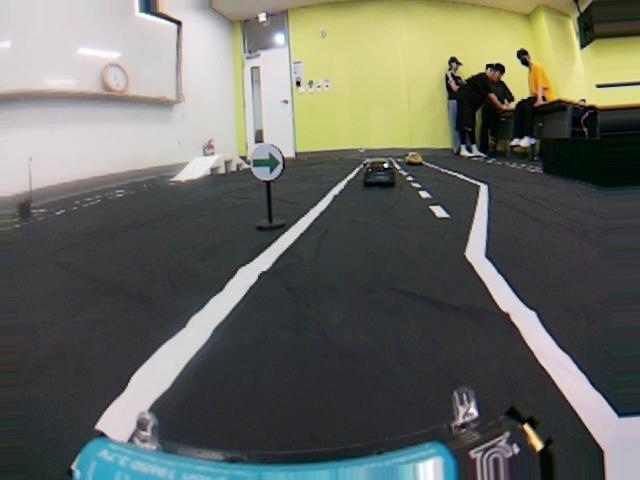car: (361, 156, 398, 192), (401, 148, 418, 163)
sign_right: (246, 141, 289, 182)
straight: (90, 271, 640, 479)
